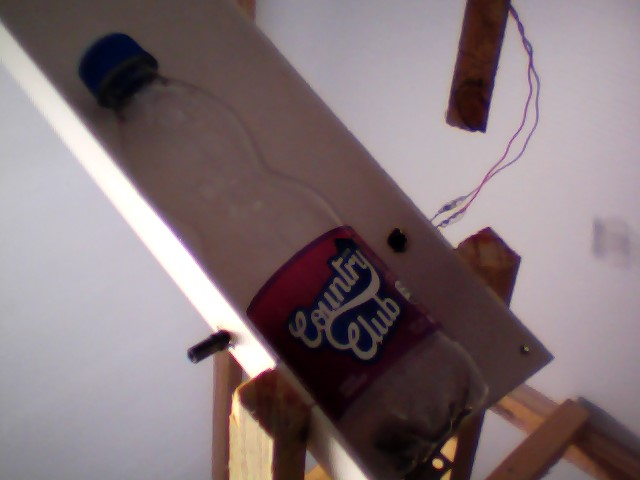plastico: (69, 25, 493, 476)
